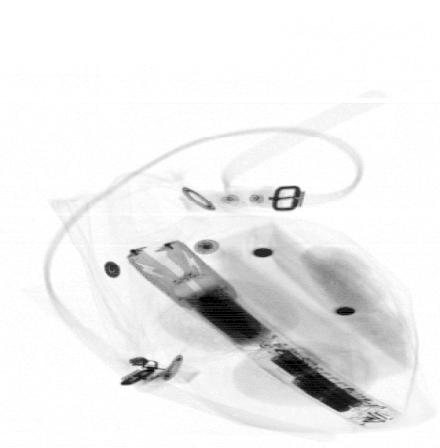Baton: (124, 239, 401, 434)
